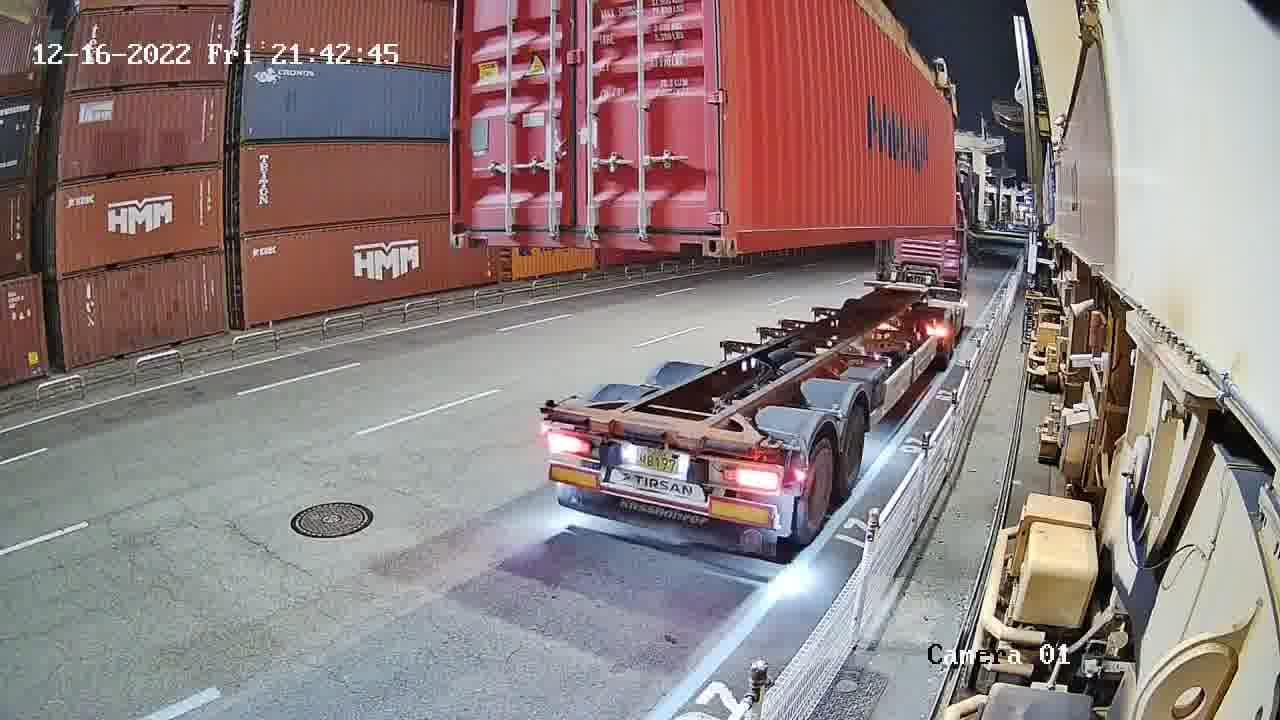Chassis: (537, 398, 799, 466)
Container: (449, 208, 723, 258)
Hole_L: (722, 212, 753, 259), (450, 208, 483, 249)
Hole_R: (688, 211, 723, 257)
Tire: (797, 441, 835, 544), (841, 406, 867, 492)
